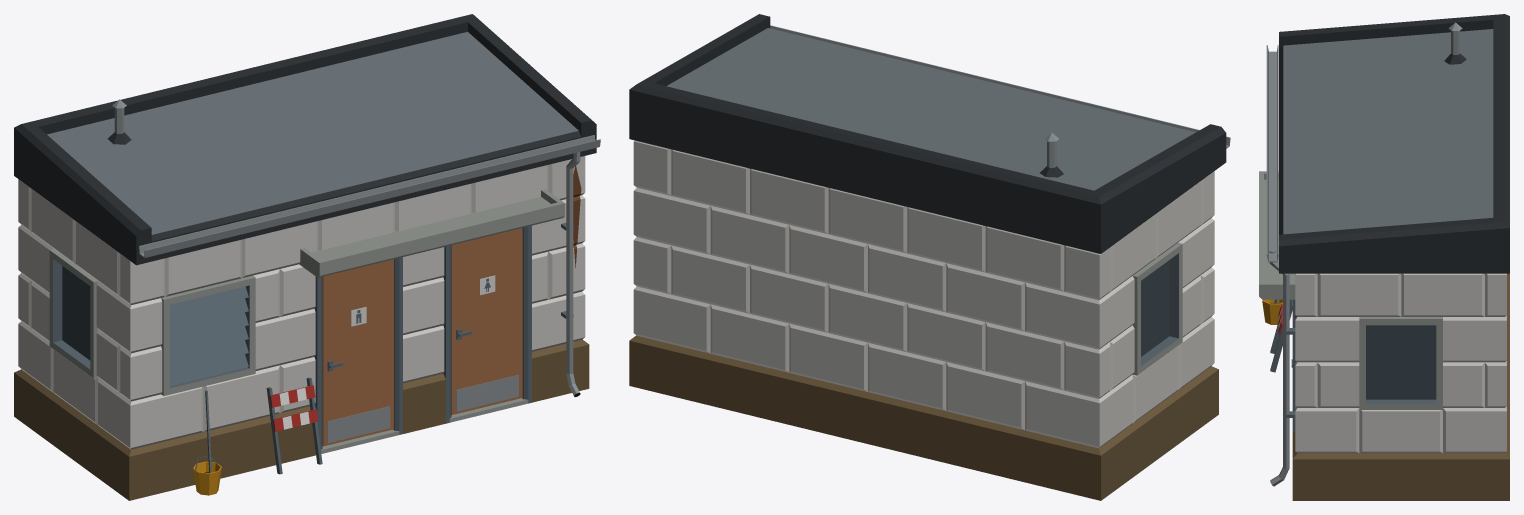
File: toilet-block-da51a4.glb
3 renders of one model, left to right at view 1: azimuth 30°, elevation 25°; view 2: azimuth 150°, elevation 25°; view 3: azimuth 270°, elevation 25°, orthographic. The views are drawn at different scales.
Parts seen in each view (by area): view 1: toilet-block-shell, door-1-mesh, door-2-mesh, barrier-sign-mesh, mop-bucket-mesh; view 2: toilet-block-shell; view 3: toilet-block-shell, barrier-sign-mesh, mop-bucket-mesh.
Boxes of the visible parts, x1=… form: toilet-block-shell: x1=14, y1=14, x2=600, y2=500; door-1-mesh: x1=322, y1=259, x2=393, y2=446; door-2-mesh: x1=451, y1=228, x2=522, y2=414; barrier-sign-mesh: x1=266, y1=377, x2=322, y2=474; mop-bucket-mesh: x1=193, y1=390, x2=221, y2=495; toilet-block-shell: x1=629, y1=14, x2=1230, y2=500; toilet-block-shell: x1=1259, y1=14, x2=1509, y2=500; barrier-sign-mesh: x1=1270, y1=299, x2=1292, y2=372; mop-bucket-mesh: x1=1262, y1=299, x2=1282, y2=324.
Size of the model in its own units: 6 by 3.98 by 3.
